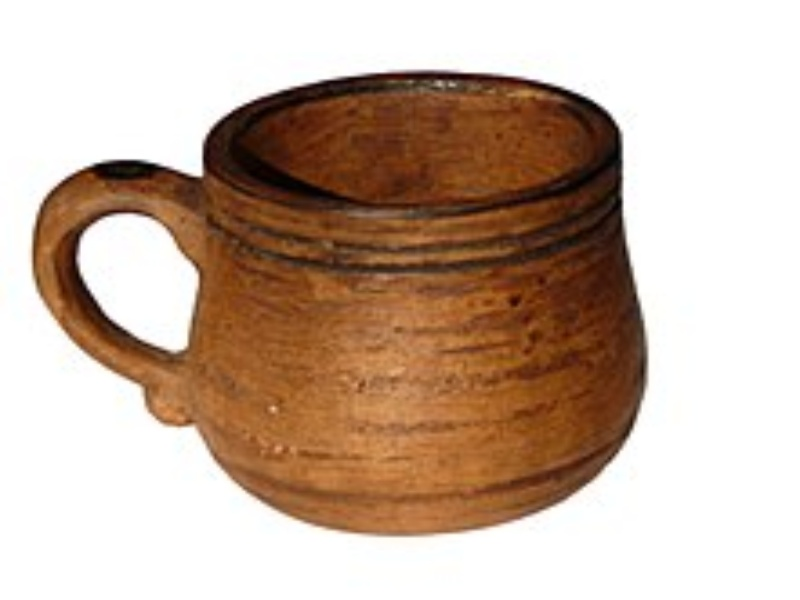cup: (29, 32, 681, 543)
